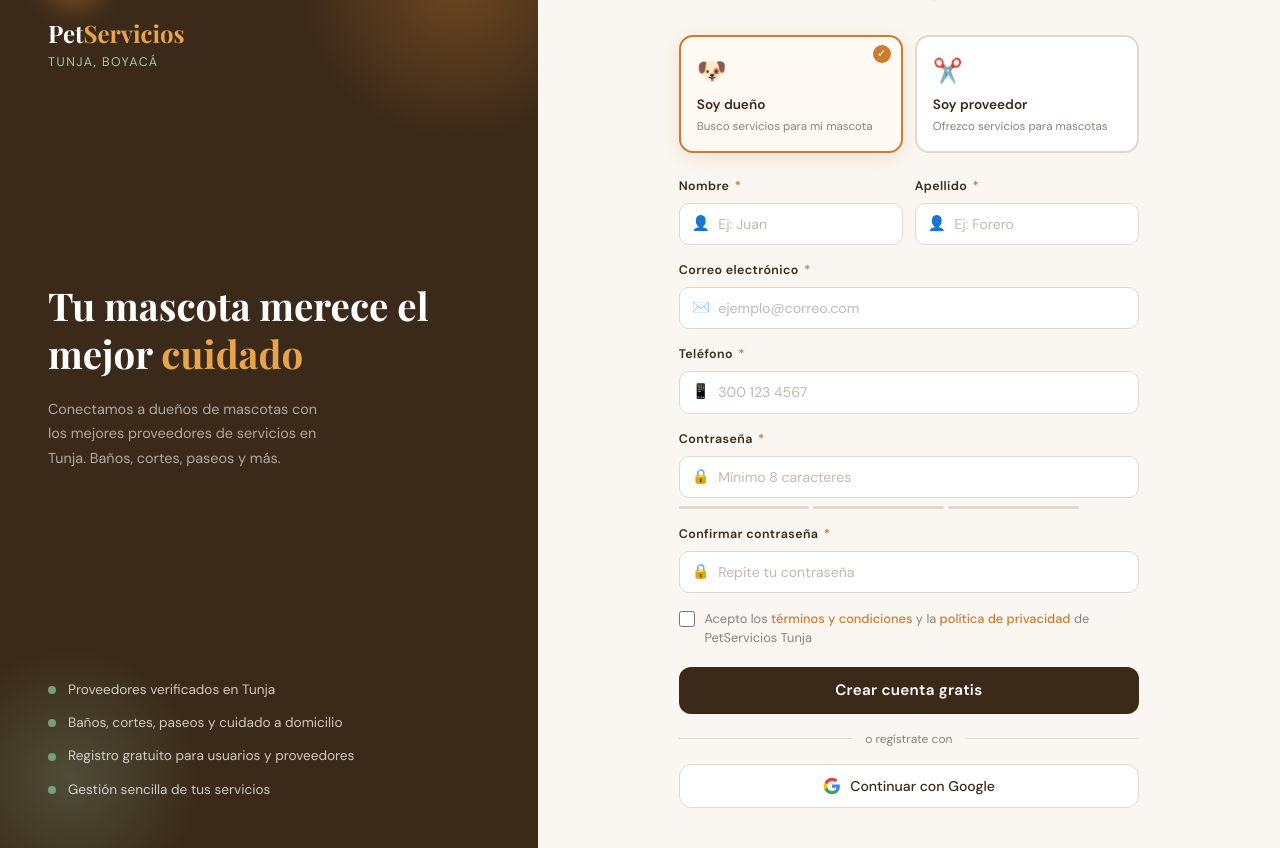
Test: Register › muestra error si Google falla
The width and height of the screenshot is (1280, 848).
(page scrolled)
What coordinates should you click on to do the following:
click the button "Continuar con Google"
I would click on:
 (909, 786)
Its box is [679,764,1139,808].
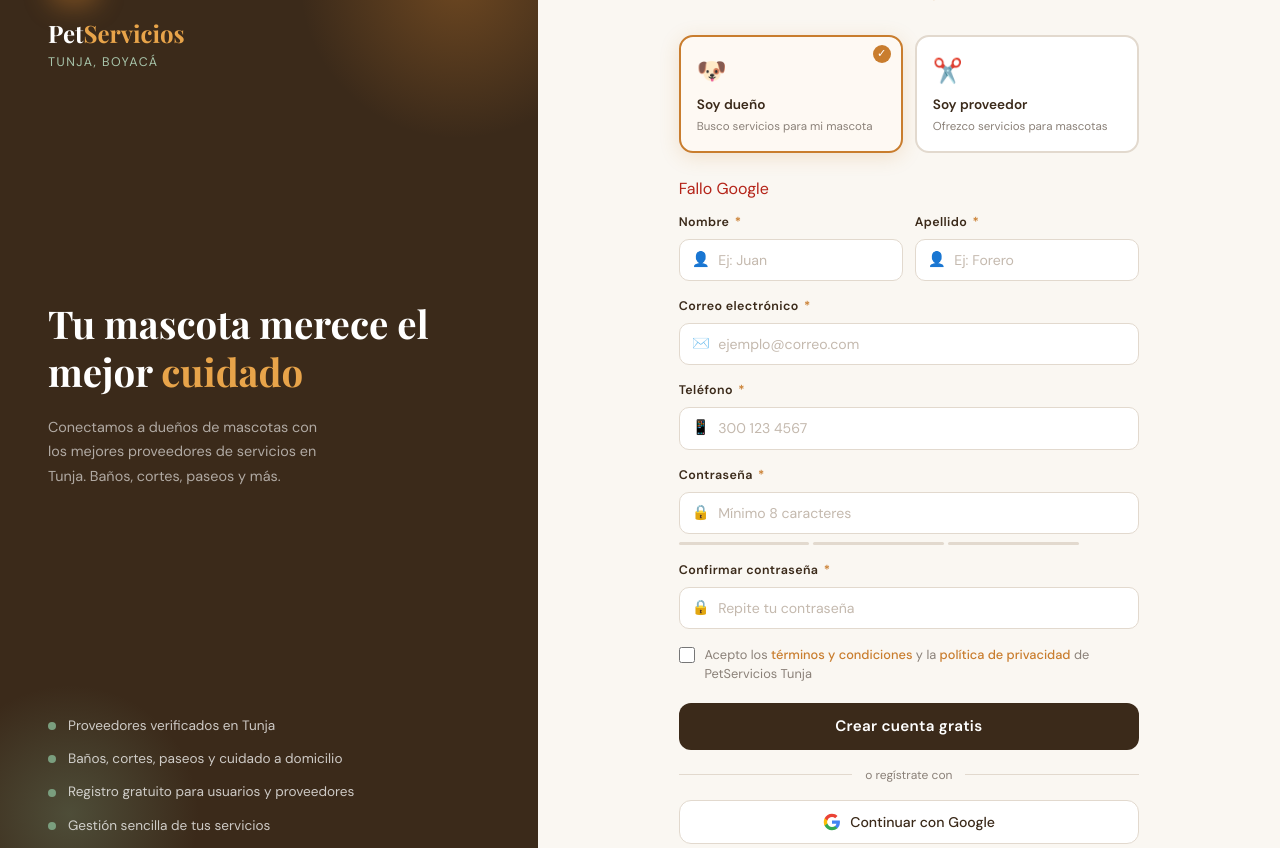
Result: the text "Fallo Google" is shown at [679,178,769,199]
